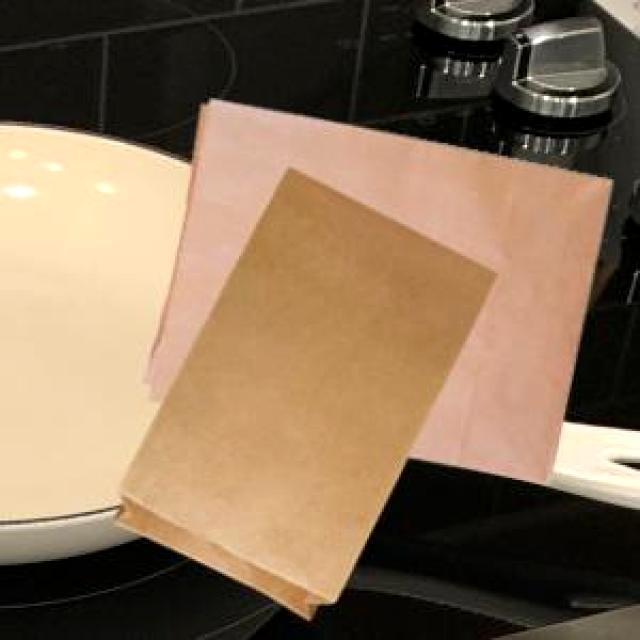Paper_Bag: (142, 97, 609, 481), (110, 165, 494, 616)
